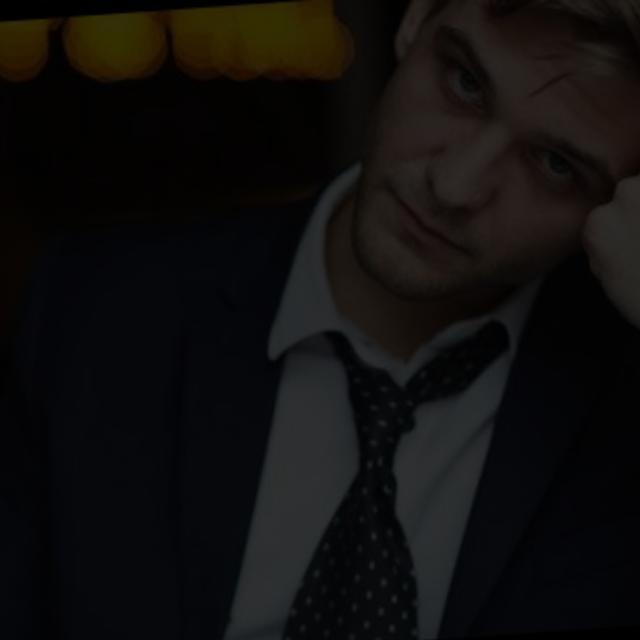Natural: (352, 45, 627, 313)
